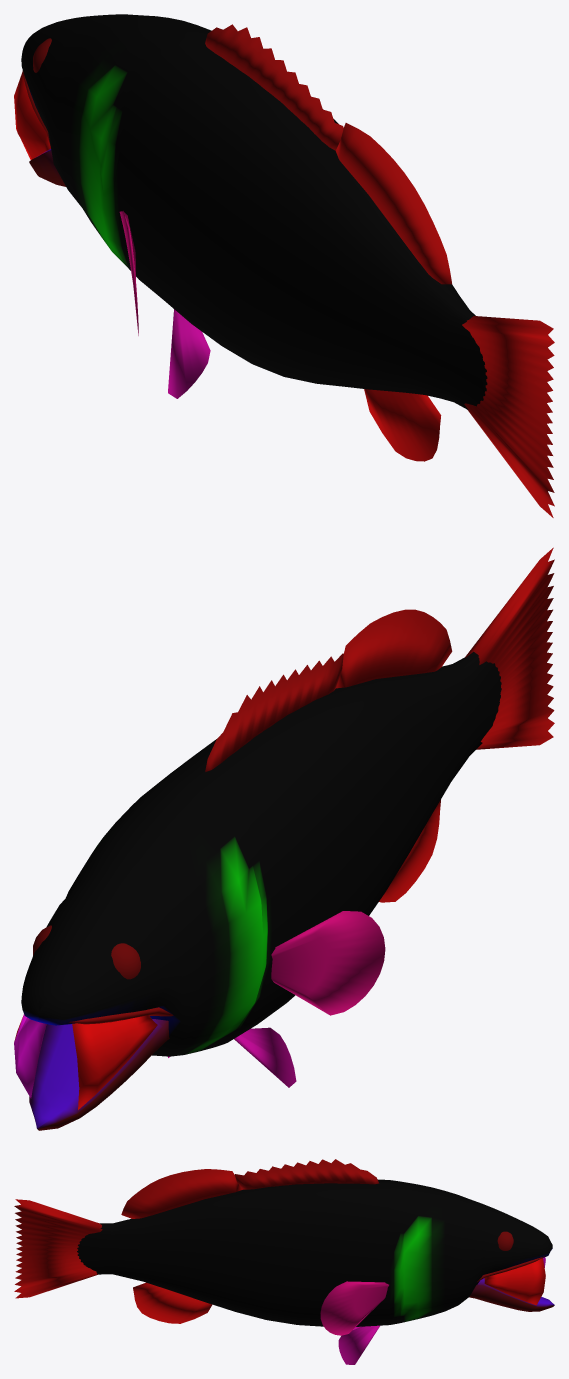
Rendered from grouper_game.glb.
3 renders of one model, top to bottom at view 1: azimuth 30°, elevation 25°; view 2: azimuth 150°, elevation 25°; view 3: azimuth 270°, elevation 25°, orthographic. The views are drawn at different scales.
Visible parts, largest first — view 1: grouper_game; view 2: grouper_game; view 3: grouper_game.
Boxes of the visible parts, x1=… form: grouper_game: x1=14, y1=14, x2=554, y2=517; grouper_game: x1=14, y1=547, x2=554, y2=1130; grouper_game: x1=14, y1=1159, x2=554, y2=1364.
Bounding box in the file's own units: 0.3303 × 0.4647 × 1.2.
